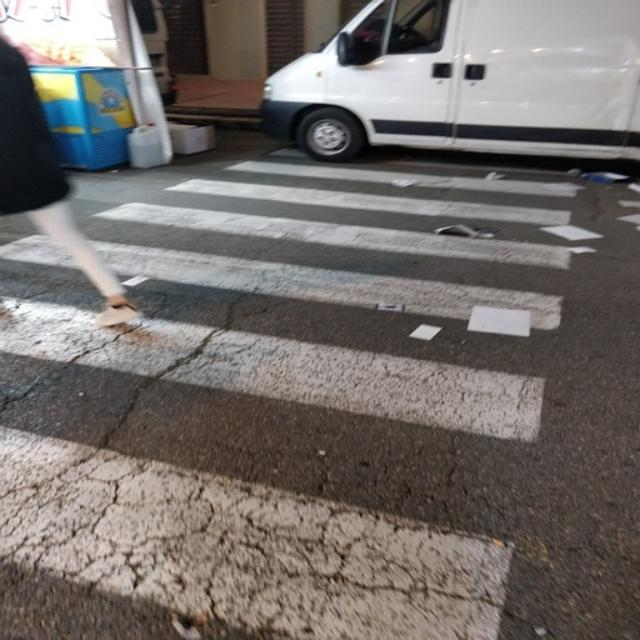sidewalk: (0, 136, 575, 640)
